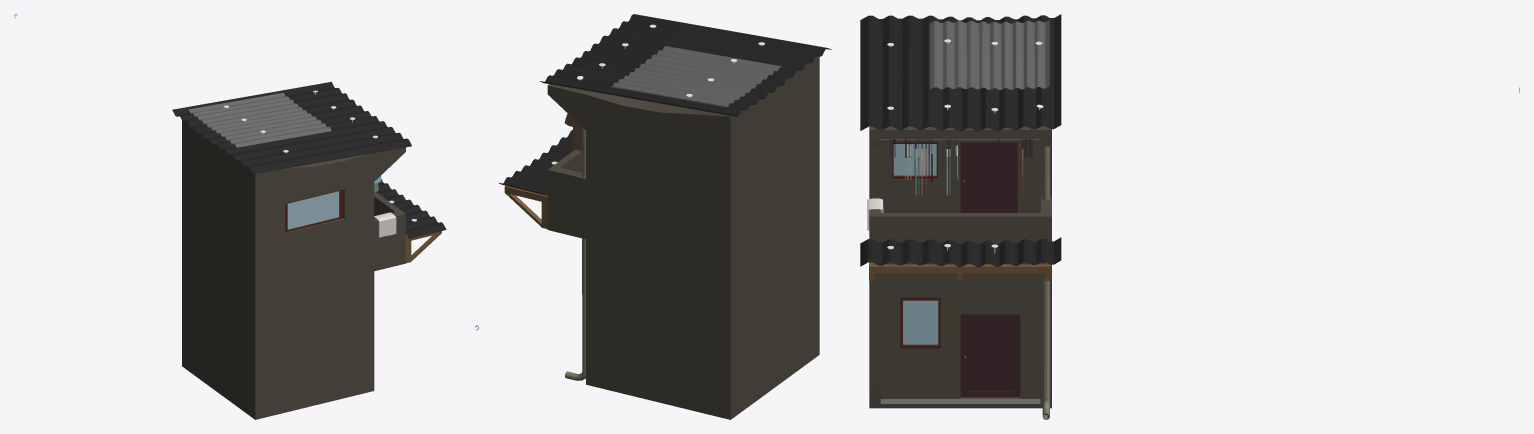
The model's file is BAHAY 5.fbx.
The picture shows the model from 3 angles, left to right: view 1: azimuth 30°, elevation 25°; view 2: azimuth 150°, elevation 25°; view 3: azimuth 270°, elevation 25°; orthographic projection. The views are drawn at different scales.
Parts seen in each view (by area): view 1: BAHAY, BUBONG, KAHOY, WINDOW, TOWEL BIG; view 2: BAHAY, BUBONG, TUBO, KAHOY, TOWEL W HANGER; view 3: BAHAY, BUBONG, DOOR, KAHOY, TUBO, TOWEL W HANGER, WINDOW.
Boxes of the visible parts, x1,y1,x2,y2 form: BAHAY: (182,121,405,419); BUBONG: (172,81,446,238); KAHOY: (405,231,441,263); WINDOW: (285,189,343,232); TOWEL BIG: (374,212,396,237); BAHAY: (547,56,819,419); BUBONG: (498,14,831,195); TUBO: (565,127,585,380); KAHOY: (504,185,547,228); TOWEL W HANGER: (564,113,581,150); BAHAY: (869,126,1051,408); BUBONG: (860,14,1061,266); DOOR: (960,142,1020,397); KAHOY: (869,262,1051,280); TUBO: (1042,146,1049,419); TOWEL W HANGER: (892,139,1032,195); WINDOW: (892,142,940,348).
Size of the model in its own units: 1780 by 2254 by 4206.
